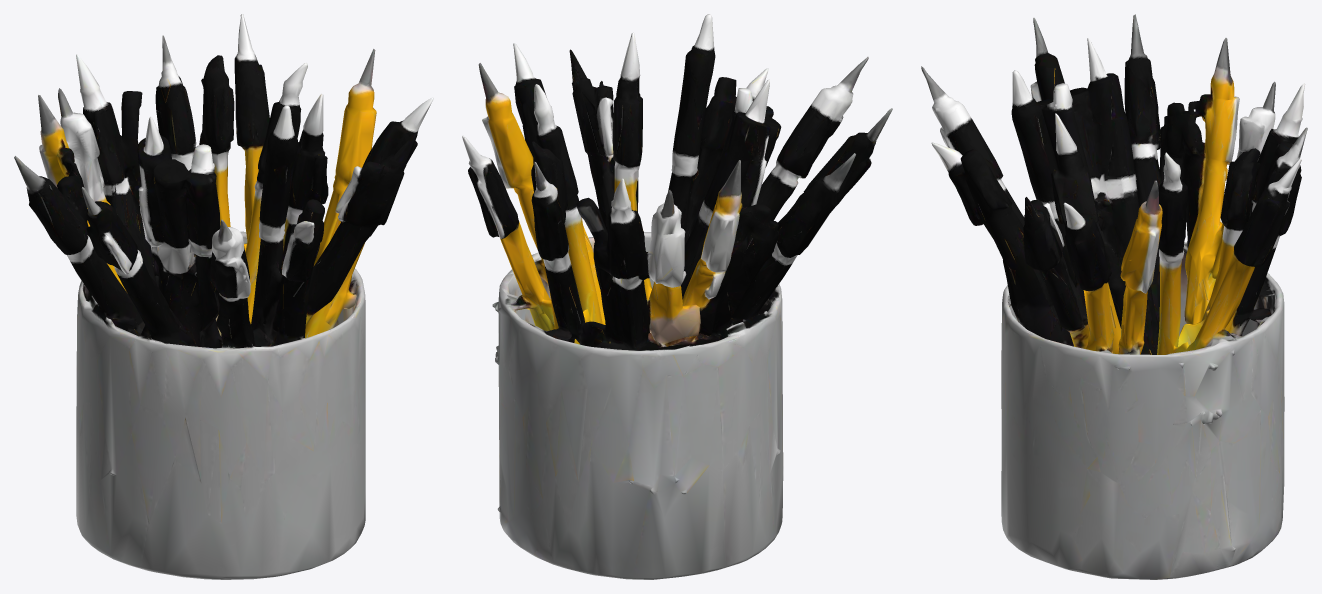
The model's file is pen_cup.glb.
3 renders of one model, left to right at view 1: azimuth 30°, elevation 25°; view 2: azimuth 150°, elevation 25°; view 3: azimuth 270°, elevation 25°, orthographic. The views are drawn at different scales.
Size of the model in its own units: 1.74 by 2.01 by 1.56.
Materials: 1 (1 with a texture image).
